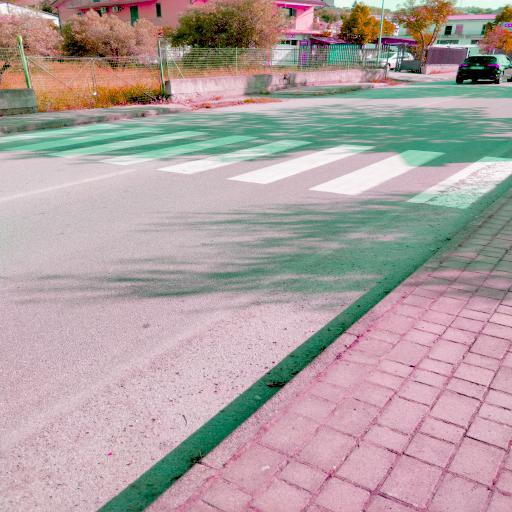crosswalk: (218, 140, 448, 200)
